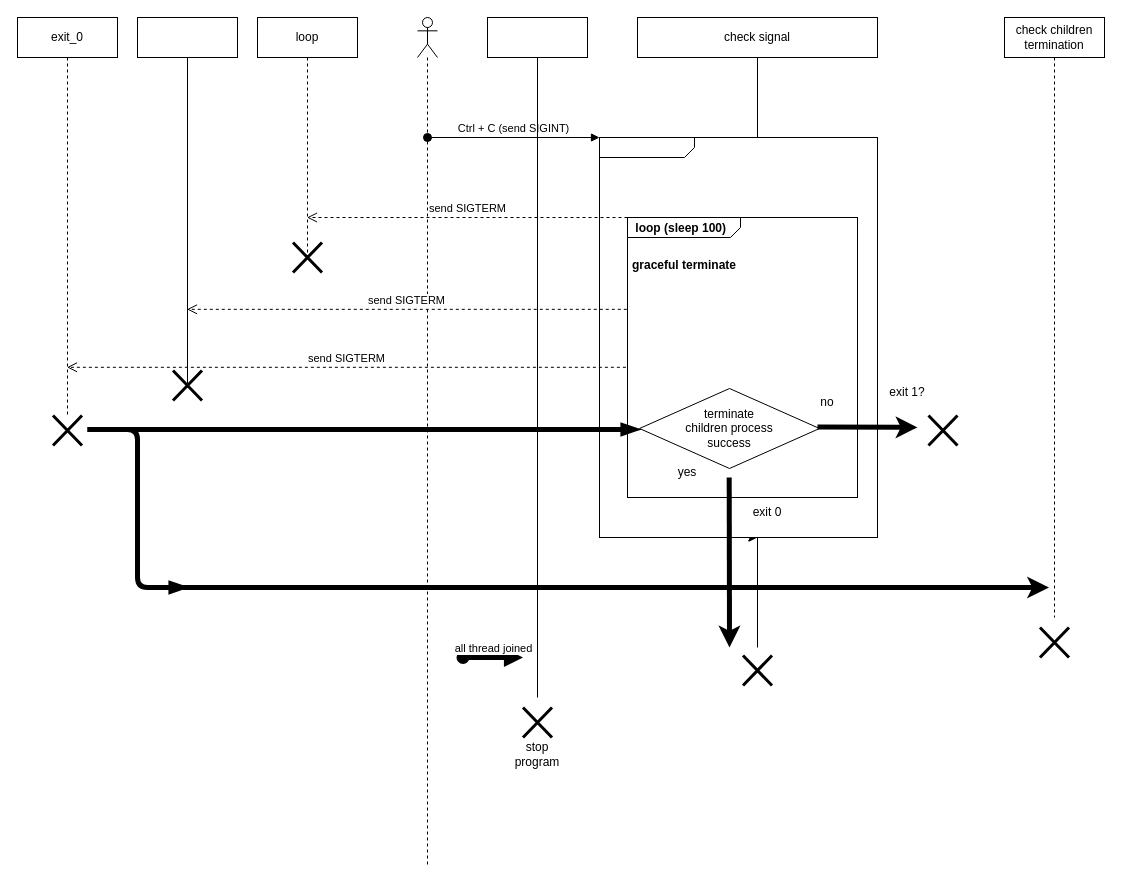
Some shapes in this 1122 by 885 pixel diagram are drawn without their labels. The shapes that lost their labels are listed below. From the top down, each one's box as (x1, y1, x2, y2) in pixels, then its label:
(136, 16, 238, 388): exit_1
(486, 16, 588, 698): main
(598, 136, 878, 538): signals.forever handling SIGINT
